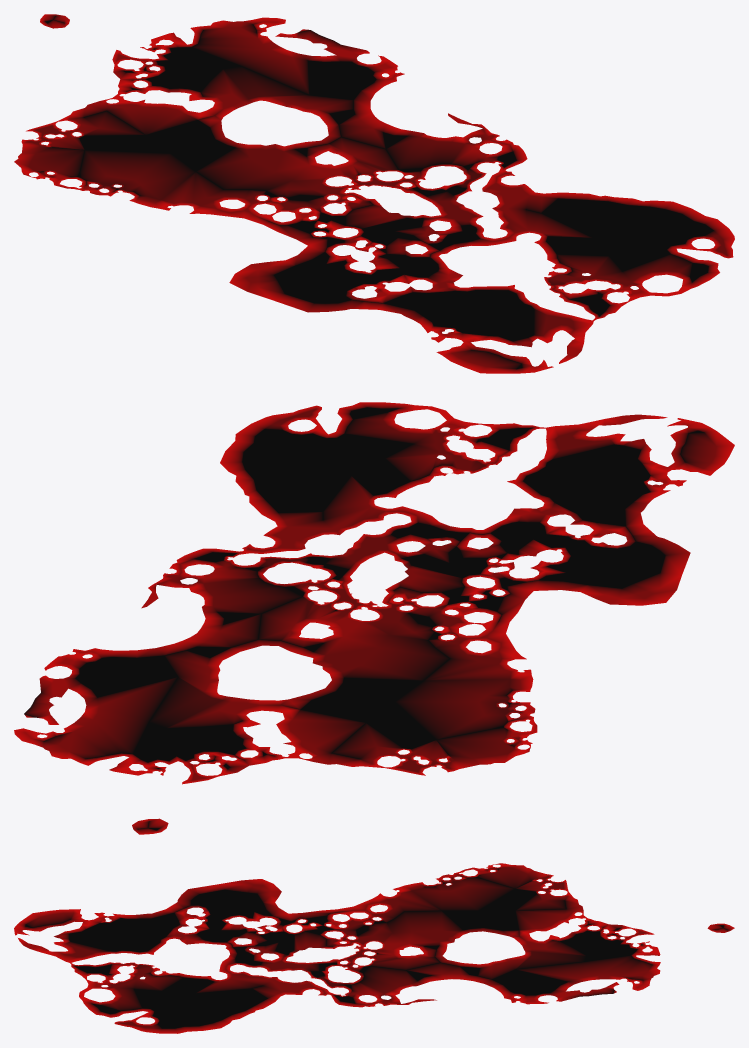
3 views of the same model, one above another, from view 1: azimuth 30°, elevation 25°; view 2: azimuth 150°, elevation 25°; view 3: azimuth 270°, elevation 25° (orthographic). The views are drawn at different scales.
Visible parts, largest first — view 1: G:\FFXIV-MapTools\exports\g3f3\bg\ex2\01_gyr_g3\fld\g3f3\bgp; view 2: G:\FFXIV-MapTools\exports\g3f3\bg\ex2\01_gyr_g3\fld\g3f3\bgp; view 3: G:\FFXIV-MapTools\exports\g3f3\bg\ex2\01_gyr_g3\fld\g3f3\bgp.
Part boxes in pixels (left/top/right/bottom): G:\FFXIV-MapTools\exports\g3f3\bg\ex2\01_gyr_g3\fld\g3f3\bgp: left=14, top=17, right=734, bottom=373; G:\FFXIV-MapTools\exports\g3f3\bg\ex2\01_gyr_g3\fld\g3f3\bgp: left=14, top=402, right=734, bottom=784; G:\FFXIV-MapTools\exports\g3f3\bg\ex2\01_gyr_g3\fld\g3f3\bgp: left=14, top=863, right=660, bottom=1033.
Bounding box in the file's own units: 594 × 5.36e-07 × 1060.
